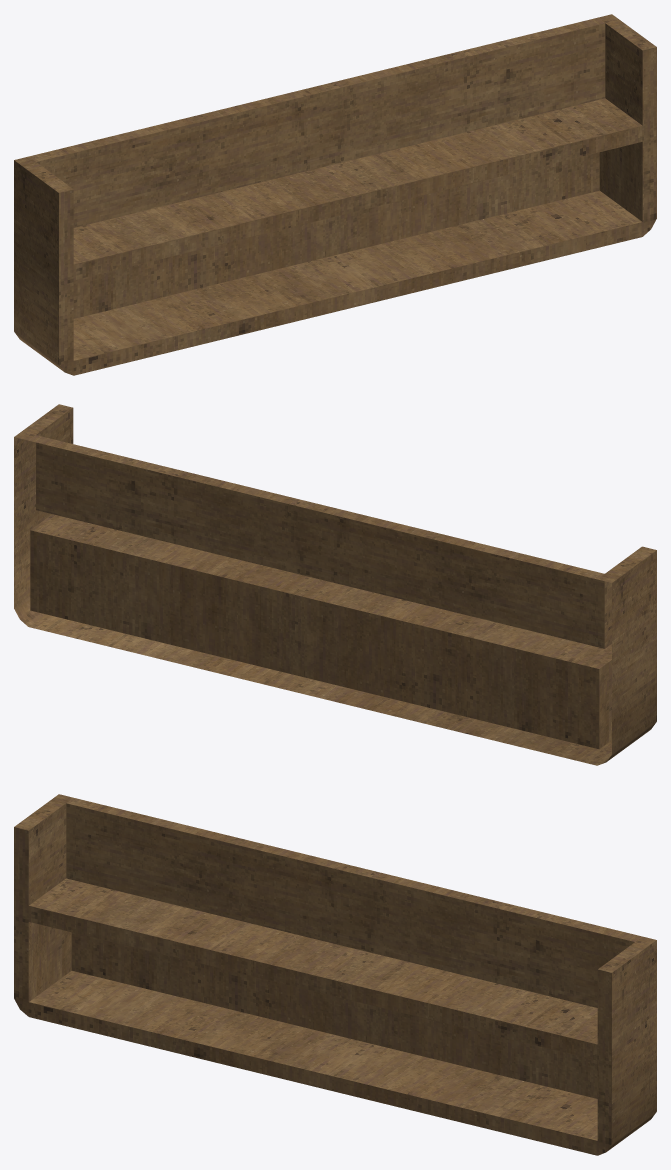
Rendered from BookShelf.fbx.
The picture shows the model from 3 angles, top to bottom: view 1: azimuth 30°, elevation 25°; view 2: azimuth 150°, elevation 25°; view 3: azimuth 330°, elevation 25°; orthographic projection.
Parts seen in each view (by area): view 1: Book.001; view 2: Book.001; view 3: Book.001.
Boxes of the visible parts, x1,y1,x2,y2 form: Book.001: (14,14,656,375); Book.001: (14,404,656,765); Book.001: (14,794,656,1155).
Bounding box in the file's own units: 107 × 31.82 × 13.91.
1 material, 1 textured.
